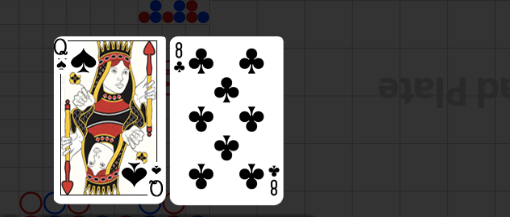8C: (266, 163, 280, 197)
9S: (54, 37, 68, 73)
